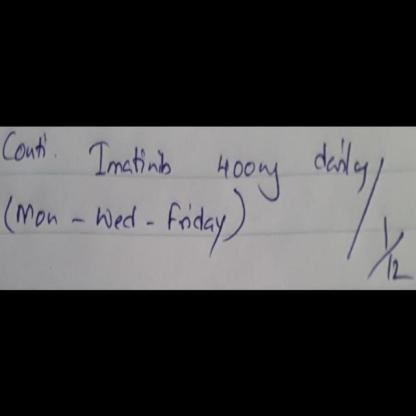Handwritten text: (76, 138, 374, 189), (163, 192, 225, 263), (88, 198, 148, 238), (8, 197, 65, 233)
